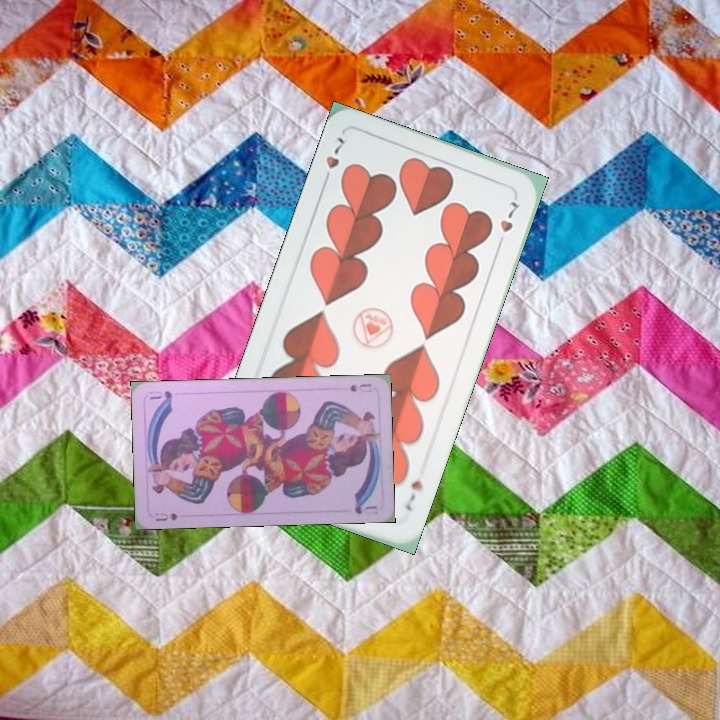H7: (319, 132, 349, 187), (401, 476, 426, 514)
SU: (151, 508, 180, 524), (346, 379, 374, 395)
